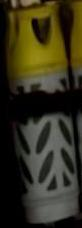cylinder: (1, 1, 82, 228)
